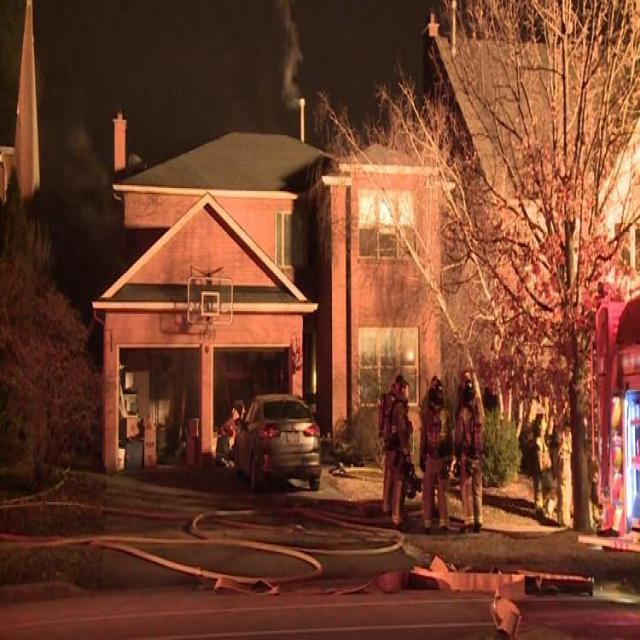other: (353, 177, 421, 235)
